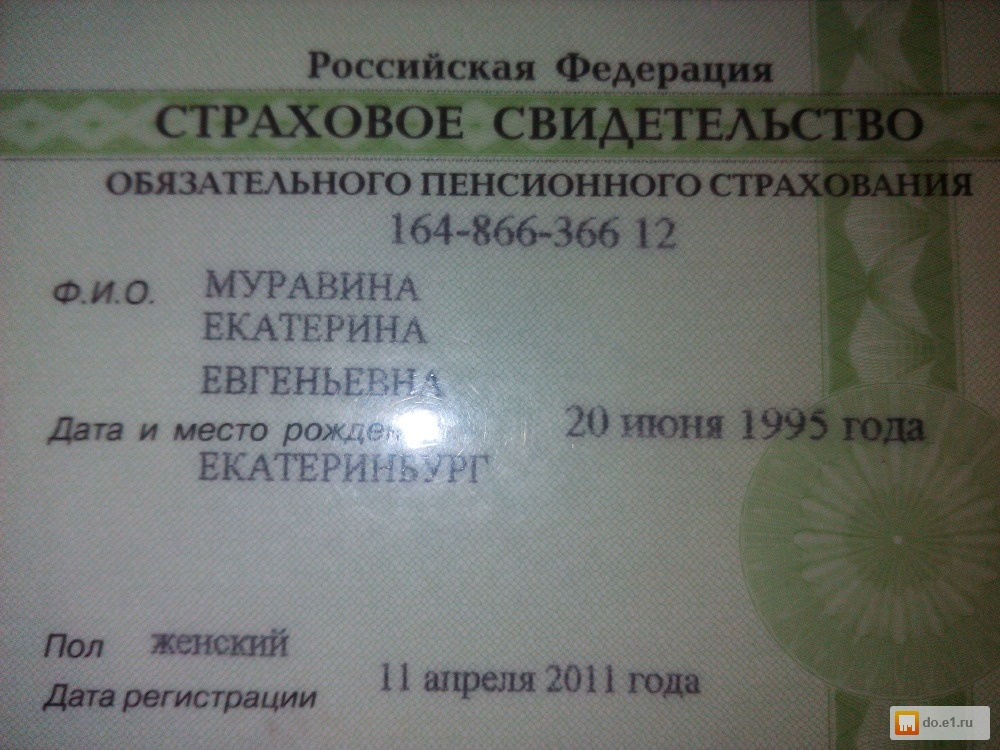text: (564, 403, 928, 456), (361, 652, 710, 700), (372, 202, 688, 253), (187, 354, 446, 398), (192, 449, 502, 485), (192, 306, 434, 352), (196, 259, 426, 307), (145, 626, 301, 662)
